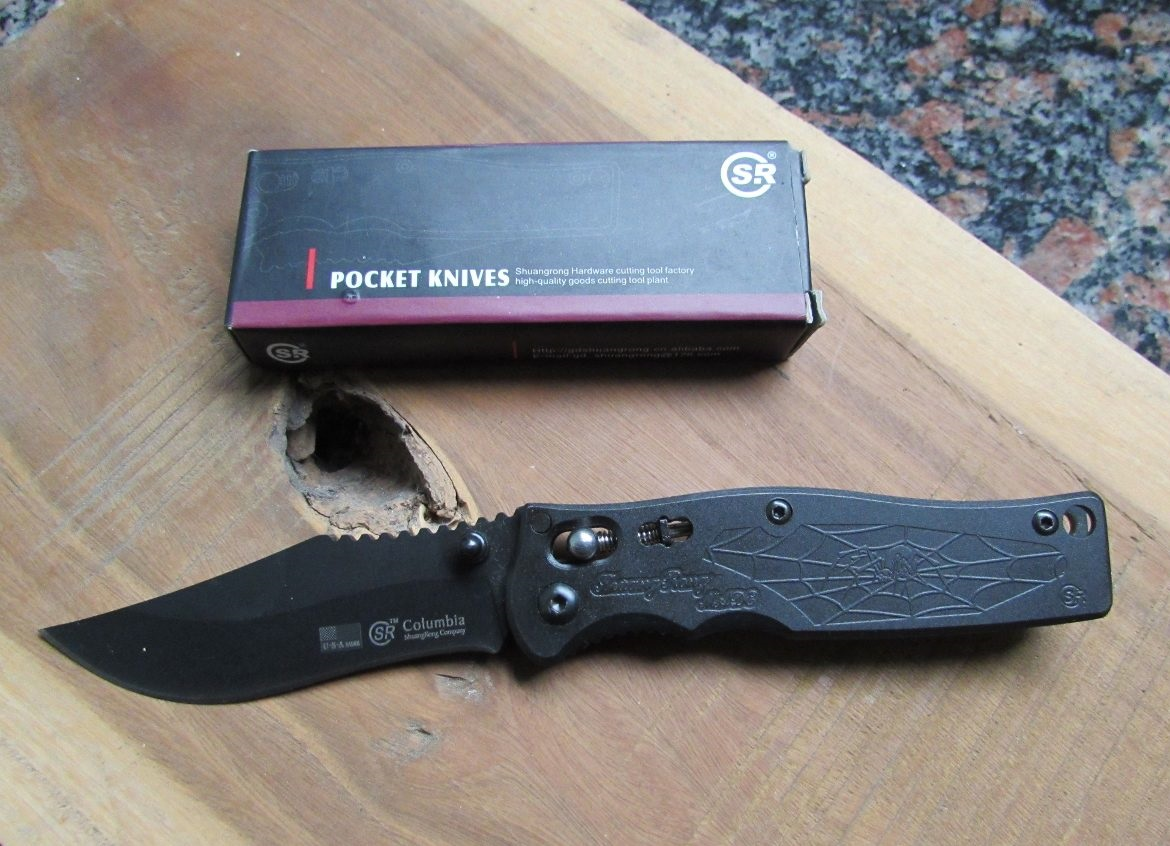knife: (26, 469, 1132, 726)
